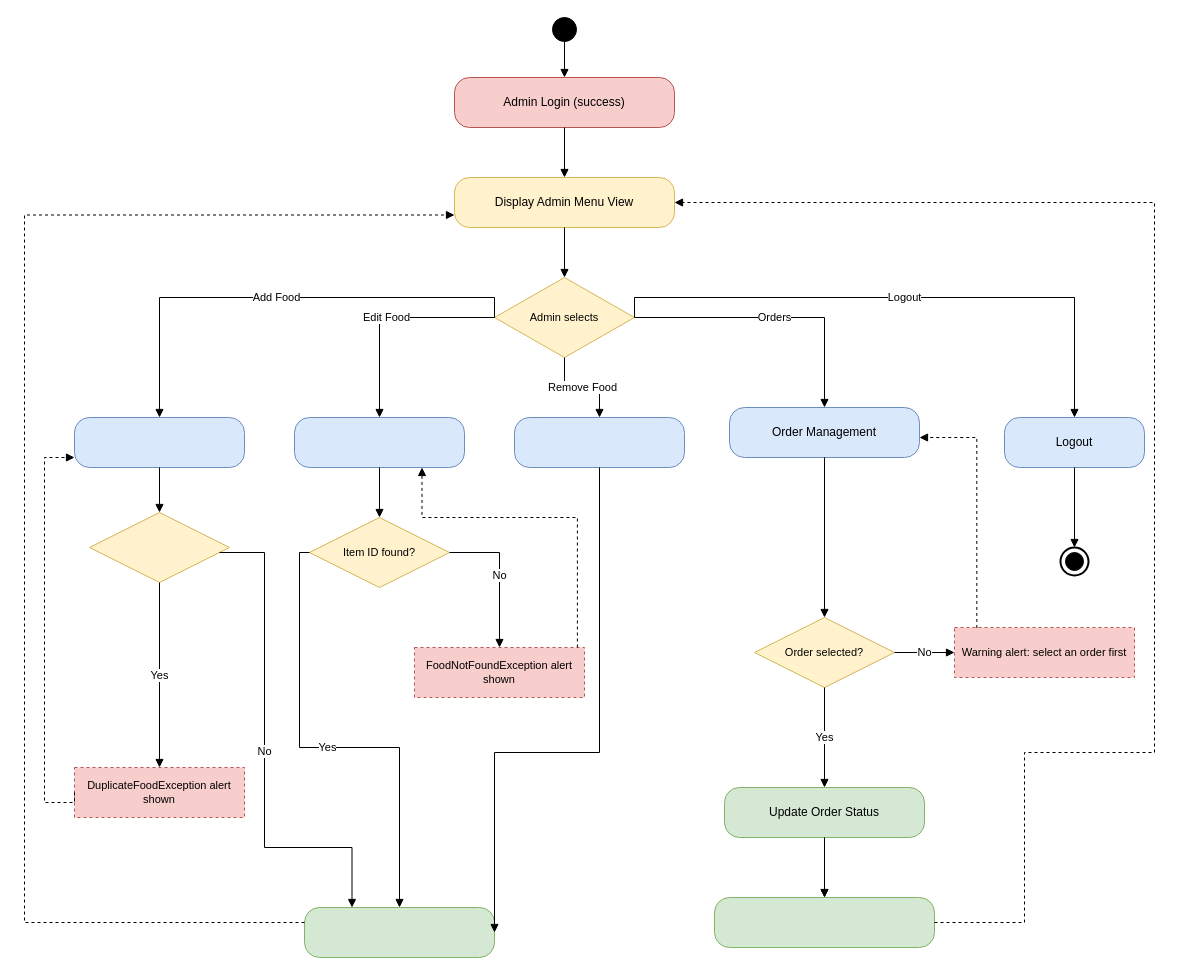
The diagram is 1180 pixels wide and 975 high, and some of its shapes have lost their labels. The centre of each missing label's shape, as x and y in pixels:
"Add Food Item" belongs at (x=159, y=442).
"Edit / Update Food Item" belongs at (x=379, y=442).
"ID already exists?" belongs at (x=159, y=547).
"Remove Food Item" belongs at (x=599, y=442).
"Save menu changes to file" belongs at (x=399, y=932).
"Status updated; customer notified via order history" belongs at (x=824, y=922).
